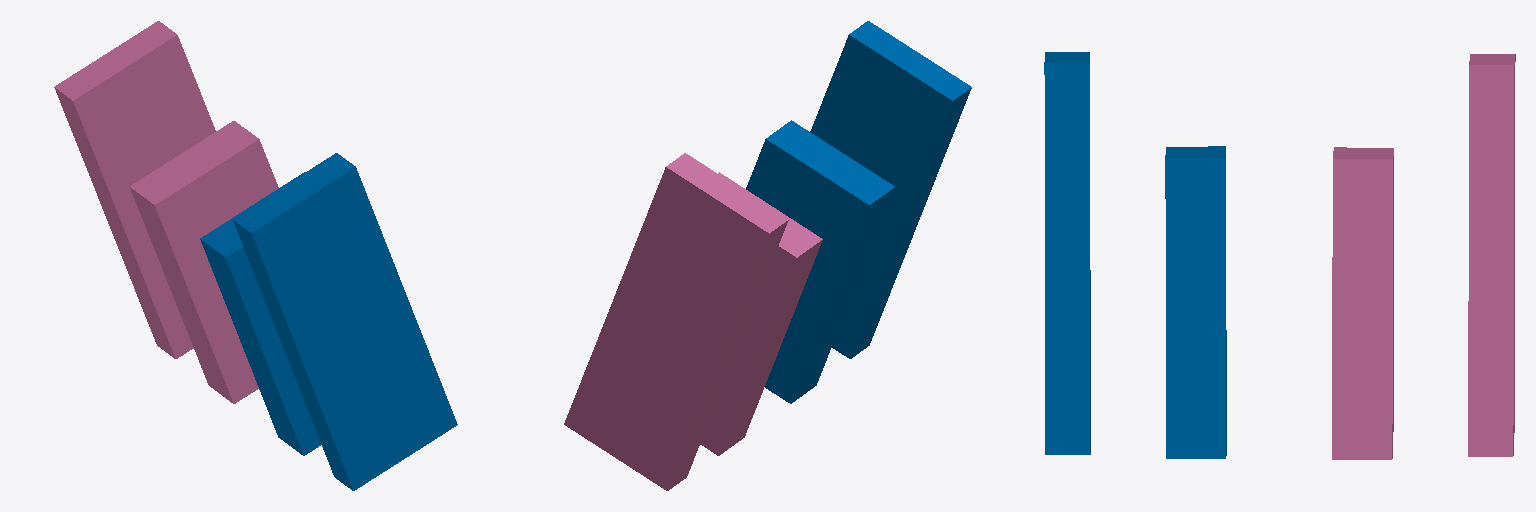
robot.urdf — fixed_bipedal:
<?xml version="1.0" encoding="UTF-8"?>
<robot name="fixed_bipedal">
  
  <joint name="L_Ankle_Pitch" type="revolute">
    <origin xyz="0. 0. 0." rpy="0. 0. 0."/>
    <parent link="bipedal_floating_l_ankle_1"/>
    <child link="bipedal_floating_l_shank_1"/>
    <axis xyz="0 1 0"/>
    <limit lower="-0.3490659" upper="1.0471976" effort="15." velocity="44.9999997"/>
  </joint>
  <joint name="L_Ankle_Roll" type="revolute">
    <origin xyz="-0.0154236 0.0996533 0.0259289" rpy="-0.0000478 0.008336 -0.0074564"/>
    <parent link="bipedal_floating"/>
    <child link="bipedal_floating_l_ankle_1"/>
    <axis xyz="1 0 0"/>
    <limit lower="-0.4363323" upper="0.4363319" effort="15." velocity="44.9999997"/>
  </joint>
  <joint name="L_Hip_Pitch" type="revolute">
    <origin xyz="-0.1483434 -0.019 0.162463 " rpy="0. -0.7400002 -0.0000002"/>
    <parent link="bipedal_floating_l_thigh_1"/>
    <child link="bipedal_floating_l_hip_pitch_1"/>
    <axis xyz="0. 1. 0."/>
    <limit lower="-1.0471976" upper="0.5235988" effort="15." velocity="44.9999997"/>
  </joint>
  <joint name="L_Hip_Roll" type="revolute">
    <origin xyz="-0.007 -0. 0.0415" rpy="0. -0. -0."/>
    <parent link="bipedal_floating_l_hip_yaw_1"/>
    <child link="bipedal_floating_base_link"/>
    <axis xyz="1. 0. 0."/>
    <limit lower="-0.523599" upper="0.523599" effort="15." velocity="44.9999997"/>
  </joint>
  <joint name="L_Hip_Yaw" type="revolute">
    <origin xyz="0.0198889 -0.032 0.051278 " rpy="0.0000001 0.3699999 0. "/>
    <parent link="bipedal_floating_l_hip_pitch_1"/>
    <child link="bipedal_floating_l_hip_yaw_1"/>
    <axis xyz="0. 0. 1."/>
    <limit lower="-0.523599" upper="0.523599" effort="15." velocity="44.9999997"/>
  </joint>
  <joint name="L_Knee_Pitch" type="revolute">
    <origin xyz="0.0923703 -0. 0.2382184" rpy="0. 0.3699057 -0. "/>
    <parent link="bipedal_floating_l_shank_1"/>
    <child link="bipedal_floating_l_thigh_1"/>
    <axis xyz="0. 1. 0."/>
    <limit lower="-0.6981317" upper="0.5235988" effort="15." velocity="44.9999997"/>
  </joint>
  <joint name="R_Hip_Pitch" type="revolute">
    <origin xyz="-0. -0.032 -0.055" rpy="0. -0.37 -0. "/>
    <parent link="bipedal_floating_r_hip_pitch_1"/>
    <child link="bipedal_floating_r_thigh_1"/>
    <axis xyz="0. 1. 0."/>
    <limit lower="-1.0471976" upper="0.5235988" effort="15." velocity="44.9999997"/>
  </joint>
  <joint name="R_Hip_Roll" type="revolute">
    <origin xyz="-0. -0.098 -0.0000001" rpy="0. 0. 0."/>
    <parent link="bipedal_floating_base_link"/>
    <child link="bipedal_floating_r_hip_yaw_1"/>
    <axis xyz="1. 0. 0."/>
    <limit lower="-0.523599" upper="0.523599" effort="15." velocity="44.9999997"/>
  </joint>
  <joint name="R_Hip_Yaw" type="revolute">
    <origin xyz="0.007 -0. -0.0414999" rpy="-0. -0. -0."/>
    <parent link="bipedal_floating_r_hip_yaw_1"/>
    <child link="bipedal_floating_r_hip_pitch_1"/>
    <axis xyz="0. 0. 1."/>
    <limit lower="-0.523599" upper="0.523599" effort="15." velocity="44.9999997"/>
  </joint>
  <joint name="R_Knee_Pitch" type="revolute">
    <origin xyz="-0. -0.019 -0.22 " rpy="0. 0.7400001 0. "/>
    <parent link="bipedal_floating_r_thigh_1"/>
    <child link="bipedal_floating_r_shank_1"/>
    <axis xyz="0. 1. 0."/>
    <limit lower="-0.6981317" upper="0.5235988" effort="15." velocity="44.9999997"/>
  </joint>
  <joint name="FixedJoint" type="fixed">
    <origin xyz="0. 0. 0." rpy="0. -0. 0."/>
    <parent link="bipedal_floating_r_ankle_1"/>
    <child link="bipedal_floating_r_foot_1"/>
  </joint>
  <joint name="FixedJoint0" type="fixed">
    <origin xyz="-0.0000001 -0. -0.2554999" rpy="-0. -0.37 0. "/>
    <parent link="bipedal_floating_r_shank_1"/>
    <child link="bipedal_floating_r_ankle_1"/>
  </joint>
  <link name="bipedal_floating">
    <visual>
      <origin xyz="-0.0155553 0.0996535 0.0101295" rpy="-0.0000478 0.008336 -0.0074564"/>
      <geometry>
        <mesh filename="file://[local-path]/Desktop/urdf/meshes/bipedal_floating_l_foot_1_Cube_01.obj" scale="1. 1. 1."/>
      </geometry>
    </visual>
    <visual>
      <origin xyz="-0.0233855 -0.0002914 -0.000007 " rpy="-0.0000478 0.008336 -0.0074564"/>
      <geometry>
        <mesh filename="file://[local-path]/Desktop/urdf/meshes/bipedal_floating_l_foot_1_visuals_l_foot_1_mesh.obj" scale="1. 1. 1."/>
      </geometry>
    </visual>
    <collision>
      <origin xyz="-0.0155553 0.0996535 0.0101295" rpy="-0.0000478 0.008336 -0.0074564"/>
      <geometry>
        <mesh filename="file://[local-path]/Desktop/urdf/meshes/bipedal_floating_l_foot_1_Cube_01.obj" scale="1. 1. 1."/>
      </geometry>
    </collision>
  </link>
  <link name="bipedal_floating_base_link">
    <inertial>
      <origin xyz="0.0044488 0. 0.6292536" rpy="0. 0. 0."/>
      <mass value="0.1903033"/>
      <inertia ixx="0.00052" ixy="0." ixz="0.000053" iyy="0.000694" iyz="0." izz="0.000957"/>
    </inertial>
    <visual>
      <origin xyz="0.0010199 -0.048984 0.02003 " rpy="-0.0000136 -0.0082415 0.0074564"/>
      <geometry>
        <mesh filename="file://[local-path]/Desktop/urdf/meshes/bipedal_floating_base_link_Cube.obj" scale="1. 1. 1."/>
      </geometry>
    </visual>
    <visual>
      <origin xyz="-0. -0.049 -0.5980001" rpy="0. 0. 0."/>
      <geometry>
        <mesh filename="file://[local-path]/Desktop/urdf/meshes/bipedal_floating_base_link_visuals_base_link_mesh.obj" scale="1. 1. 1."/>
      </geometry>
    </visual>
    <collision>
      <origin xyz="0.0010199 -0.048984 0.02003 " rpy="-0.0000136 -0.0082415 0.0074564"/>
      <geometry>
        <mesh filename="file://[local-path]/Desktop/urdf/meshes/bipedal_floating_base_link_Cube.obj" scale="1. 1. 1."/>
      </geometry>
    </collision>
  </link>
  <link name="bipedal_floating_l_ankle_1">
    <inertial>
      <origin xyz="0. 0. 0." rpy="0. 0. 0."/>
      <mass value="0.0048217"/>
      <inertia ixx="0.001" ixy="0." ixz="0." iyy="0.001" iyz="0." izz="0.001"/>
    </inertial>
    <visual>
      <origin xyz="-0.007 -0.1 -0.026" rpy="0. 0. 0."/>
      <geometry>
        <mesh filename="file://[local-path]/Desktop/urdf/meshes/bipedal_floating_l_ankle_1_visuals_l_ankle_1_mesh.obj" scale="1. 1. 1."/>
      </geometry>
    </visual>
  </link>
  <link name="bipedal_floating_l_hip_pitch_1">
    <inertial>
      <origin xyz="0. 0.0022492 -0.03225 " rpy="0. 0. 0."/>
      <mass value="0.0945202"/>
      <inertia ixx="0.000169" ixy="0." ixz="0." iyy="0.000138" iyz="0.000005" izz="0.000134"/>
    </inertial>
    <visual>
      <origin xyz="-0.1878764 -0.081 -0.4650309" rpy="0.0000001 0.3699999 0. "/>
      <geometry>
        <mesh filename="file://[local-path]/Desktop/urdf/meshes/bipedal_floating_l_hip_pitch_1_visuals_l_hip_pitch_1_mesh.obj" scale="1. 1. 1."/>
      </geometry>
    </visual>
  </link>
  <link name="bipedal_floating_l_hip_yaw_1">
    <inertial>
      <origin xyz="-0.008686 0.0000107 -0.0010215" rpy="0. 0. 0."/>
      <mass value="1.3123447"/>
      <inertia ixx="0.000955" ixy="0." ixz="0.000012" iyy="0.002546" iyz="0." izz="0.002645"/>
    </inertial>
    <visual>
      <origin xyz="-0.007 -0.049 -0.5565" rpy="0. -0. -0."/>
      <geometry>
        <mesh filename="file://[local-path]/Desktop/urdf/meshes/bipedal_floating_l_hip_yaw_1_visuals_l_hip_yaw_1_mesh.obj" scale="1. 1. 1."/>
      </geometry>
    </visual>
  </link>
  <link name="bipedal_floating_l_shank_1">
    <inertial>
      <origin xyz="0.0049849 0.0000073 -0.0624096" rpy="0. 0. 0."/>
      <mass value="0.1789021"/>
      <inertia ixx="0.001648" ixy="0." ixz="-0.000065" iyy="0.001636" iyz="0." izz="0.000064"/>
    </inertial>
    <visual>
      <origin xyz="-0.0159262 -0.1 -0.0217107" rpy="0. 0.3699057 -0. "/>
      <geometry>
        <mesh filename="file://[local-path]/Desktop/urdf/meshes/bipedal_floating_l_shank_1_visuals_l_shank_1_mesh.obj" scale="1. 1. 1."/>
      </geometry>
    </visual>
  </link>
  <link name="bipedal_floating_l_thigh_1">
    <inertial>
      <origin xyz="0.0016426 0.0133419 -0.0569292" rpy="0. 0. 0."/>
      <mass value="2.3800001"/>
      <inertia ixx="0.0131" ixy="-0.000001" ixz="0.000309" iyy="0.010446" iyz="0.000619" izz="0.005641"/>
    </inertial>
    <visual>
      <origin xyz="-0.061013 -0.0447322 0.0668203" rpy="0. -0.7400002 -0.0000002"/>
      <geometry>
        <box size="0.1 0.04 0.2 "/>
      </geometry>
    </visual>
    <visual>
      <origin xyz="-0.0827627 0.0403397 0.0906402" rpy="0. -0.7400002 -0.0000002"/>
      <geometry>
        <box size="0.1 0.03 0.26"/>
      </geometry>
    </visual>
    <visual>
      <origin xyz="0.1846428 -0.1 -0.2125989" rpy="0. -0.7400002 -0.0000002"/>
      <geometry>
        <mesh filename="file://[local-path]/Desktop/urdf/meshes/bipedal_floating_l_thigh_1_visuals_l_thigh_1_mesh.obj" scale="1. 1. 1."/>
      </geometry>
    </visual>
    <collision>
      <origin xyz="-0.061013 -0.0447322 0.0668203" rpy="0. -0.7400002 -0.0000002"/>
      <geometry>
        <box size="0.1 0.04 0.2 "/>
      </geometry>
    </collision>
    <collision>
      <origin xyz="-0.0827627 0.0403397 0.0906402" rpy="0. -0.7400002 -0.0000002"/>
      <geometry>
        <box size="0.1 0.03 0.26"/>
      </geometry>
    </collision>
  </link>
  <link name="bipedal_floating_r_ankle_1">
    <inertial>
      <origin xyz="0. 0. 0." rpy="0. 0. 0."/>
      <mass value="0.0048217"/>
      <inertia ixx="0.001" ixy="0." ixz="0." iyy="0.001" iyz="0." izz="0.001"/>
    </inertial>
    <visual>
      <origin xyz="-0.007 0.1 -0.026" rpy="0. -0. 0."/>
      <geometry>
        <mesh filename="file://[local-path]/Desktop/urdf/meshes/bipedal_floating_r_ankle_1_visuals_r_ankle_1_mesh.obj" scale="1. 1. 1."/>
      </geometry>
    </visual>
  </link>
  <link name="bipedal_floating_r_foot_1">
    <inertial>
      <origin xyz="-0.0071934 0. -0.0220223" rpy="0. 0. 0."/>
      <mass value="0.1134814"/>
      <inertia ixx="0.000064" ixy="0." ixz="0.000004" iyy="0.000197" iyz="0." izz="0.000255"/>
    </inertial>
    <visual>
      <origin xyz="0. 0. -0.0164418" rpy="0. 0. 0."/>
      <geometry>
        <mesh filename="file://[local-path]/Desktop/urdf/meshes/bipedal_floating_r_foot_1_Cube_02.obj" scale="1. 1. 1."/>
      </geometry>
    </visual>
    <visual>
      <origin xyz="-0.007 0.1 -0.026" rpy="0. 0. 0."/>
      <geometry>
        <mesh filename="file://[local-path]/Desktop/urdf/meshes/bipedal_floating_r_foot_1_visuals_r_foot_1_mesh.obj" scale="1. 1. 1."/>
      </geometry>
    </visual>
    <collision>
      <origin xyz="0. 0. -0.0164418" rpy="0. 0. 0."/>
      <geometry>
        <mesh filename="file://[local-path]/Desktop/urdf/meshes/bipedal_floating_r_foot_1_Cube_02.obj" scale="1. 1. 1."/>
      </geometry>
    </collision>
  </link>
  <link name="bipedal_floating_r_hip_pitch_1">
    <inertial>
      <origin xyz="0. -0.0022492 -0.03225 " rpy="0. 0. 0."/>
      <mass value="0.0945202"/>
      <inertia ixx="0.000169" ixy="0." ixz="0." iyy="0.000138" iyz="-0.000005" izz="0.000134"/>
    </inertial>
    <visual>
      <origin xyz="-0.007 0.049 -0.5565" rpy="0. 0. 0."/>
      <geometry>
        <mesh filename="file://[local-path]/Desktop/urdf/meshes/bipedal_floating_r_hip_pitch_1_visuals_r_hip_pitch_1_mesh.obj" scale="1. 1. 1."/>
      </geometry>
    </visual>
  </link>
  <link name="bipedal_floating_r_hip_yaw_1">
    <inertial>
      <origin xyz="-0.008686 0.0000107 -0.0010215" rpy="0. 0. 0."/>
      <mass value="1.3123447"/>
      <inertia ixx="0.000955" ixy="0." ixz="0.000012" iyy="0.002546" iyz="0." izz="0.002645"/>
    </inertial>
    <visual>
      <origin xyz="0. 0.049 -0.5979999" rpy="-0. -0. -0."/>
      <geometry>
        <mesh filename="file://[local-path]/Desktop/urdf/meshes/bipedal_floating_r_hip_yaw_1_visuals_r_hip_yaw_1_mesh.obj" scale="1. 1. 1."/>
      </geometry>
    </visual>
  </link>
  <link name="bipedal_floating_r_shank_1">
    <inertial>
      <origin xyz="0.0049849 0.0000073 -0.0624096" rpy="0. 0. 0."/>
      <mass value="0.1789021"/>
      <inertia ixx="0.001648" ixy="0." ixz="-0.000065" iyy="0.001636" iyz="0." izz="0.000064"/>
    </inertial>
    <visual>
      <origin xyz="-0.007 0.1 -0.2815" rpy="-0. 0. -0."/>
      <geometry>
        <mesh filename="file://[local-path]/Desktop/urdf/meshes/bipedal_floating_r_shank_1_visuals_r_shank_1_mesh.obj" scale="1. 1. 1."/>
      </geometry>
    </visual>
  </link>
  <link name="bipedal_floating_r_thigh_1">
    <inertial>
      <origin xyz="0.0016458 -0.0132535 -0.0566505" rpy="0. 0. 0."/>
      <mass value="2.3800001"/>
      <inertia ixx="0.012971" ixy="0.000002" ixz="0.00031" iyy="0.010328" iyz="-0.000581" izz="0.005628"/>
    </inertial>
    <visual>
      <origin xyz="-0. -0.05934 -0.096578" rpy="0.0044332 0.0006463 0.0049702"/>
      <geometry>
        <box size="0.1 0.03 0.26"/>
      </geometry>
    </visual>
    <visual>
      <origin xyz="-0. 0.02573 -0.1292107" rpy="0.0044332 0.0006463 0.0049702"/>
      <geometry>
        <box size="0.1 0.04 0.2 "/>
      </geometry>
    </visual>
    <visual>
      <origin xyz="-0.007 0.081 -0.5015" rpy="0. 0. 0."/>
      <geometry>
        <mesh filename="file://[local-path]/Desktop/urdf/meshes/bipedal_floating_r_thigh_1_visuals_r_thigh_1_mesh.obj" scale="1. 1. 1."/>
      </geometry>
    </visual>
    <collision>
      <origin xyz="-0. -0.05934 -0.096578" rpy="0.0044332 0.0006463 0.0049702"/>
      <geometry>
        <box size="0.1 0.03 0.26"/>
      </geometry>
    </collision>
    <collision>
      <origin xyz="-0. 0.02573 -0.1292107" rpy="0.0044332 0.0006463 0.0049702"/>
      <geometry>
        <box size="0.1 0.04 0.2 "/>
      </geometry>
    </collision>
  </link>
</robot>

--- Facts derived from the render (not from the file) ---
3 views of the same robot in one strip: view 1: azimuth 30°, elevation 25°; view 2: azimuth 150°, elevation 25°; view 3: azimuth 270°, elevation 25° (orthographic).
Model fixed_bipedal with 13 links and 12 joints (10 revolute, 2 fixed), rooted at bipedal_floating, posed all joints at 0.
Links seen in each view (by area): view 1: bipedal_floating_r_thigh_1, bipedal_floating_l_thigh_1; view 2: bipedal_floating_l_thigh_1, bipedal_floating_r_thigh_1; view 3: bipedal_floating_l_thigh_1, bipedal_floating_r_thigh_1.
Boxes of the visible links, <box> form: bipedal_floating_r_thigh_1: <box>200,153,457,490</box>; bipedal_floating_l_thigh_1: <box>54,21,278,403</box>; bipedal_floating_l_thigh_1: <box>564,153,822,490</box>; bipedal_floating_r_thigh_1: <box>746,21,971,403</box>; bipedal_floating_l_thigh_1: <box>1332,54,1515,459</box>; bipedal_floating_r_thigh_1: <box>1044,52,1226,458</box>.
Bounding box of the posed robot: 0.1881 × 0.3117 × 0.2814 m (x, y, z).
Geometry: only primitive shapes (box / cylinder / sphere) drawn; not drawn: 16 mesh visuals (reference in a form the renderer does not follow).